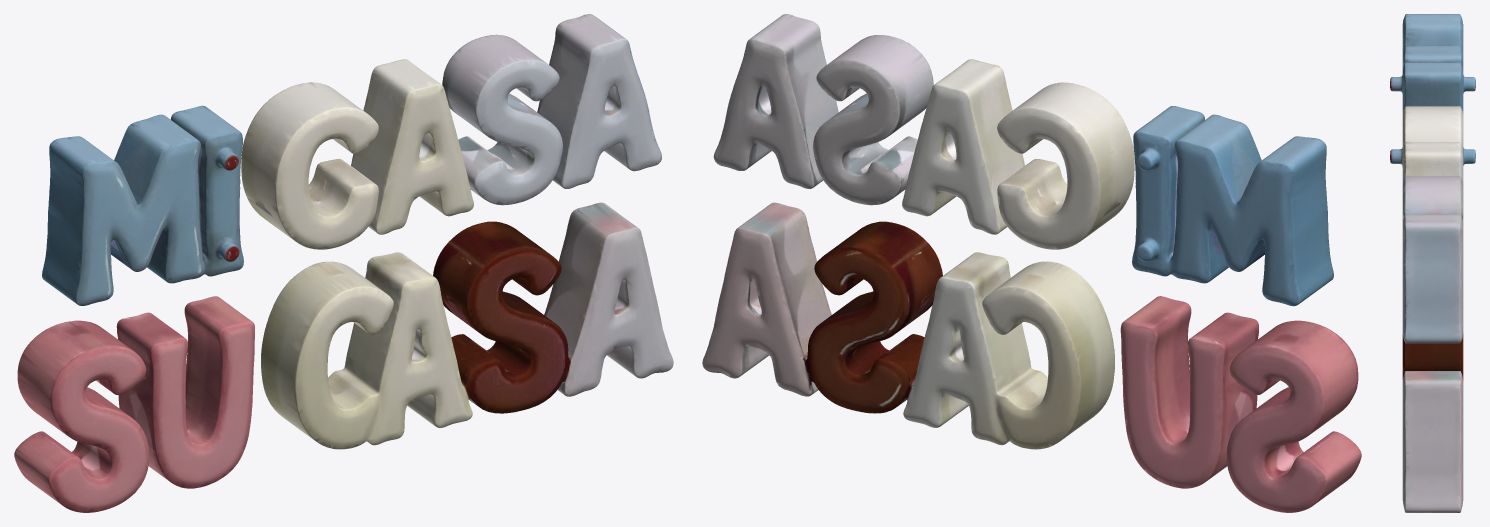
File: Meshy_AI_MI_CASA_SU_CASA_0521161326_texture.glb
3 views of the same model, side by side, from view 1: azimuth 30°, elevation 25°; view 2: azimuth 150°, elevation 25°; view 3: azimuth 270°, elevation 25° (orthographic). The views are drawn at different scales.
Bounding box in the file's own units: 1.9 × 1.02 × 0.2854.
Materials: 1 (1 with a texture image).
